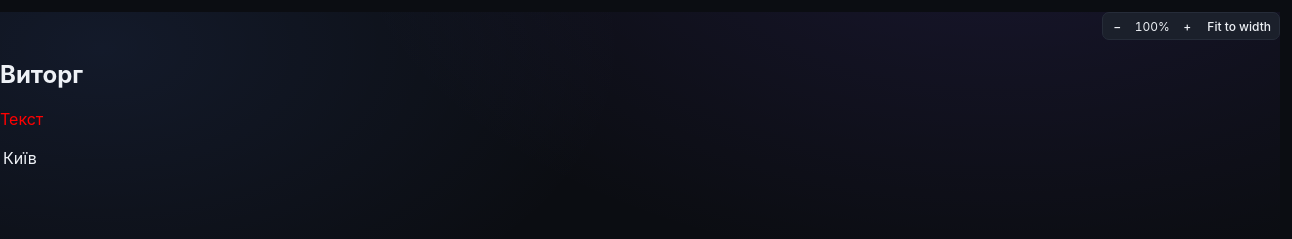
Test: ReportCanvas — editing on the sheet › the zoom › fits to width by measuring the canvas, not by guessing at it
The image size is (1292, 239).
Click the button "Fit to width": (1239, 26) [1201,15,1277,37]
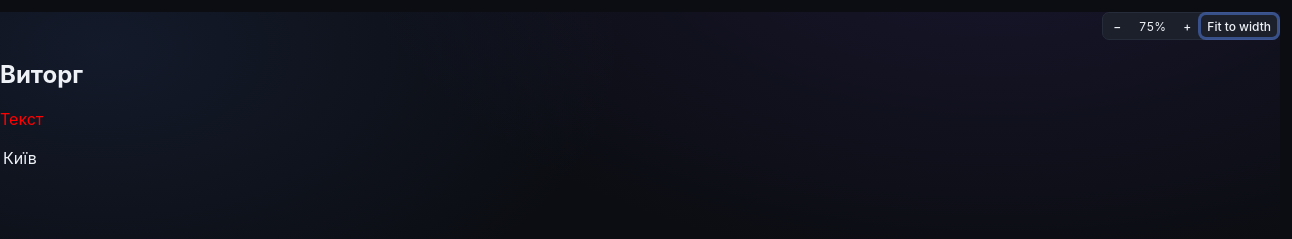
Result: the text with test id "canvas-zoom" reads "75%" at [1139,18,1166,34]
